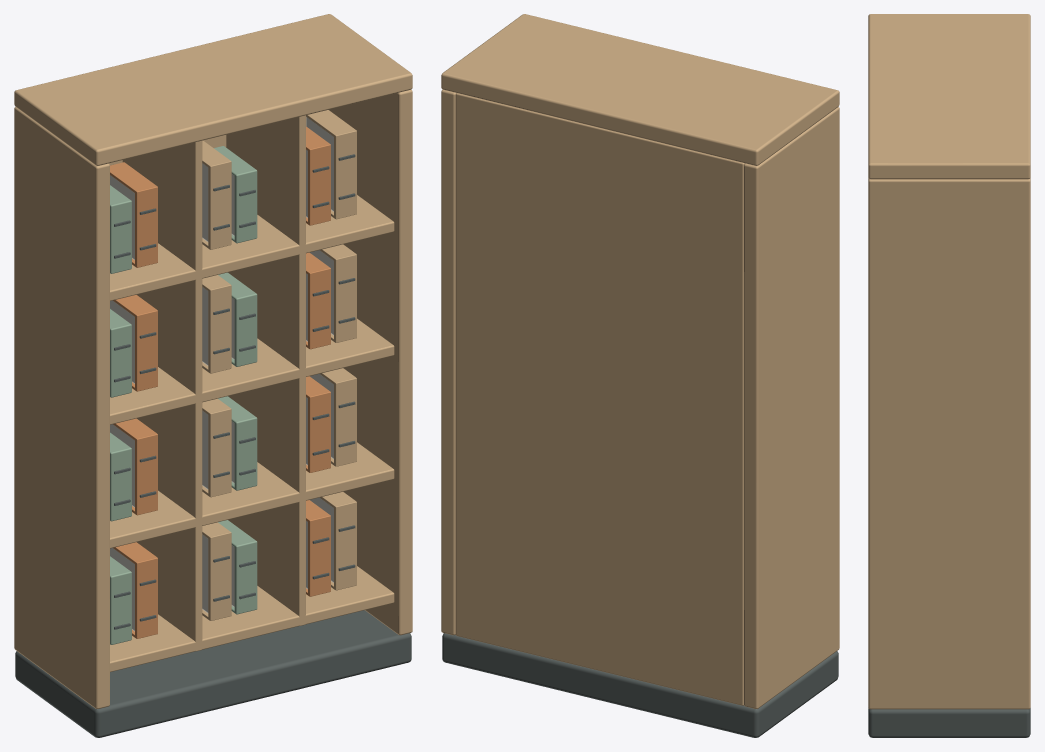
File: public-library-and-reading-garden-public-library-and-r-d61502fe__30908.glb
3 renders of one model, left to right at view 1: azimuth 30°, elevation 25°; view 2: azimuth 150°, elevation 25°; view 3: azimuth 270°, elevation 25°, orthographic. The views are drawn at different scales.
Parts seen in each view (by area): view 1: public-library-and-reading-garden-sorting-shelf; view 2: public-library-and-reading-garden-sorting-shelf; view 3: public-library-and-reading-garden-sorting-shelf.
Part boxes in pixels (<box>): public-library-and-reading-garden-sorting-shelf: <box>14,14,412,737</box>; public-library-and-reading-garden-sorting-shelf: <box>441,14,839,737</box>; public-library-and-reading-garden-sorting-shelf: <box>868,14,1030,737</box>.
Bounding box in the file's own units: 1.1 × 1.96 × 0.5001.
